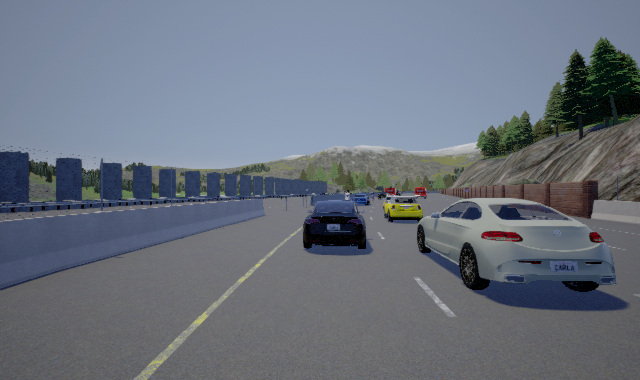vehicle: (417, 187, 617, 294), (303, 194, 370, 249), (383, 193, 425, 222)
